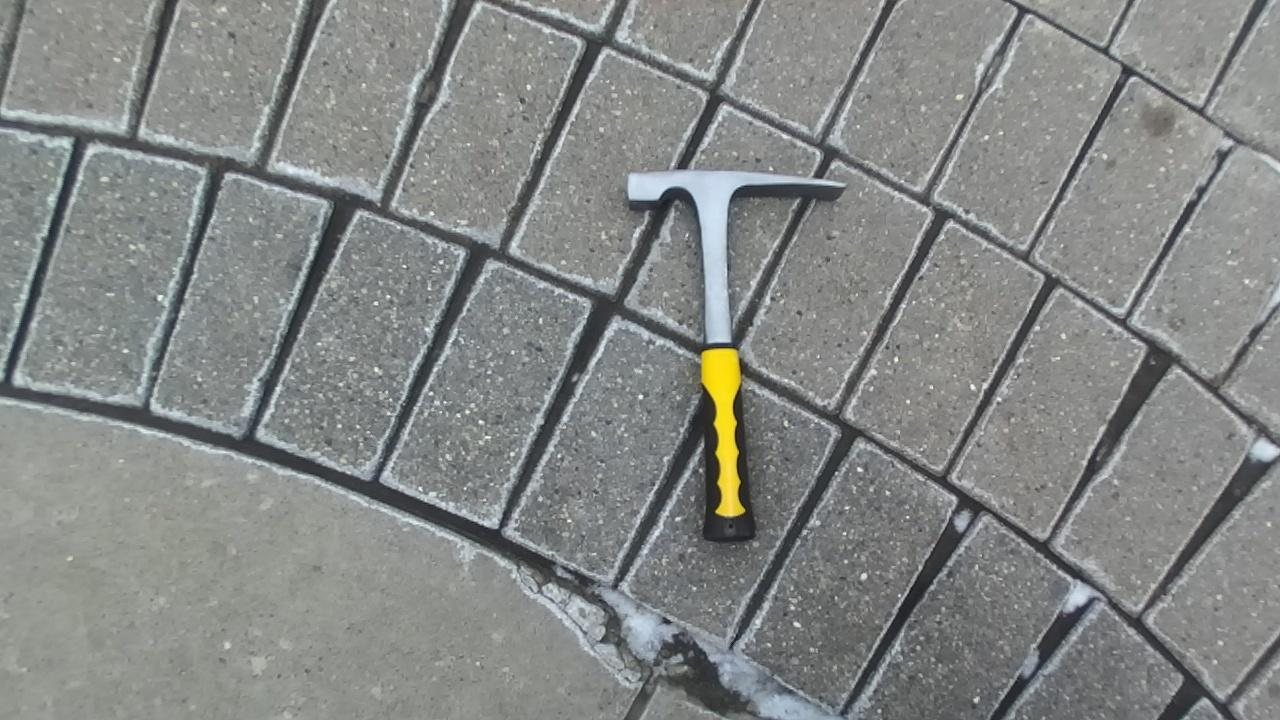pick: (627, 169, 845, 541)
